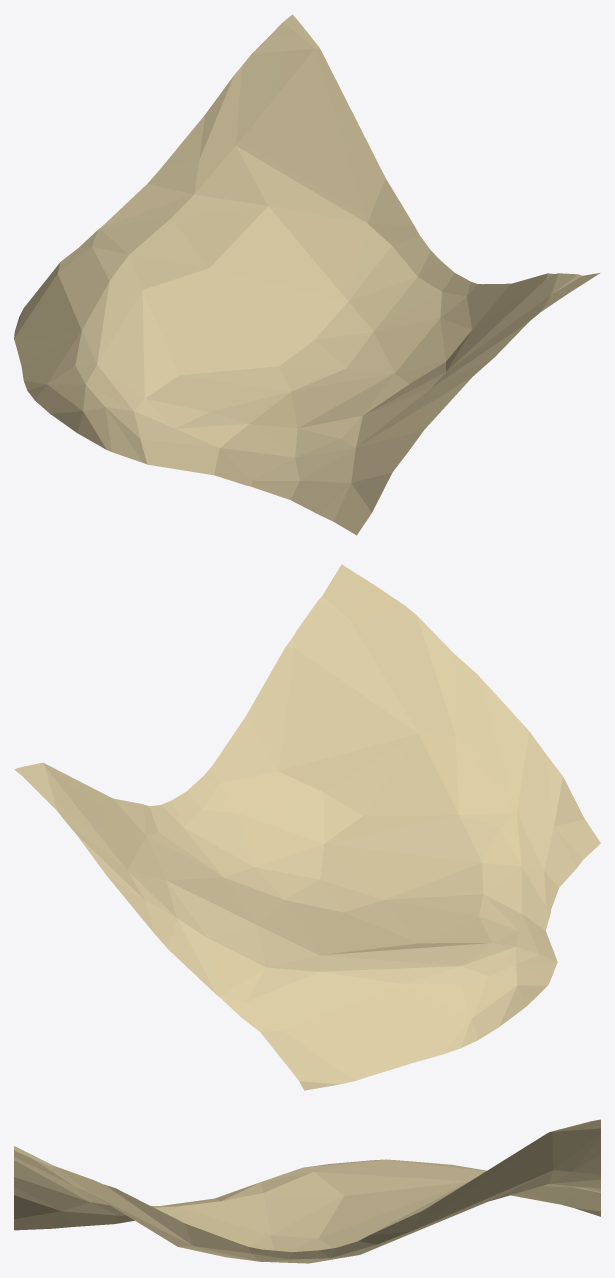
File: bisect-6-4-3.gltf
The picture shows the model from 3 angles, top to bottom: view 1: azimuth 30°, elevation 25°; view 2: azimuth 150°, elevation 25°; view 3: azimuth 270°, elevation 25°; orthographic projection. The views are drawn at different scales.
Parts seen in each view (by area): view 1: bisect-6-4-3; view 2: bisect-6-4-3; view 3: bisect-6-4-3.
Part boxes in pixels (x1,y1,x2,y2): bisect-6-4-3: (14,14,599,535); bisect-6-4-3: (14,564,600,1090); bisect-6-4-3: (14,1119,600,1263).
Size of the model in its own units: 13.08 by 8.43 by 20.
